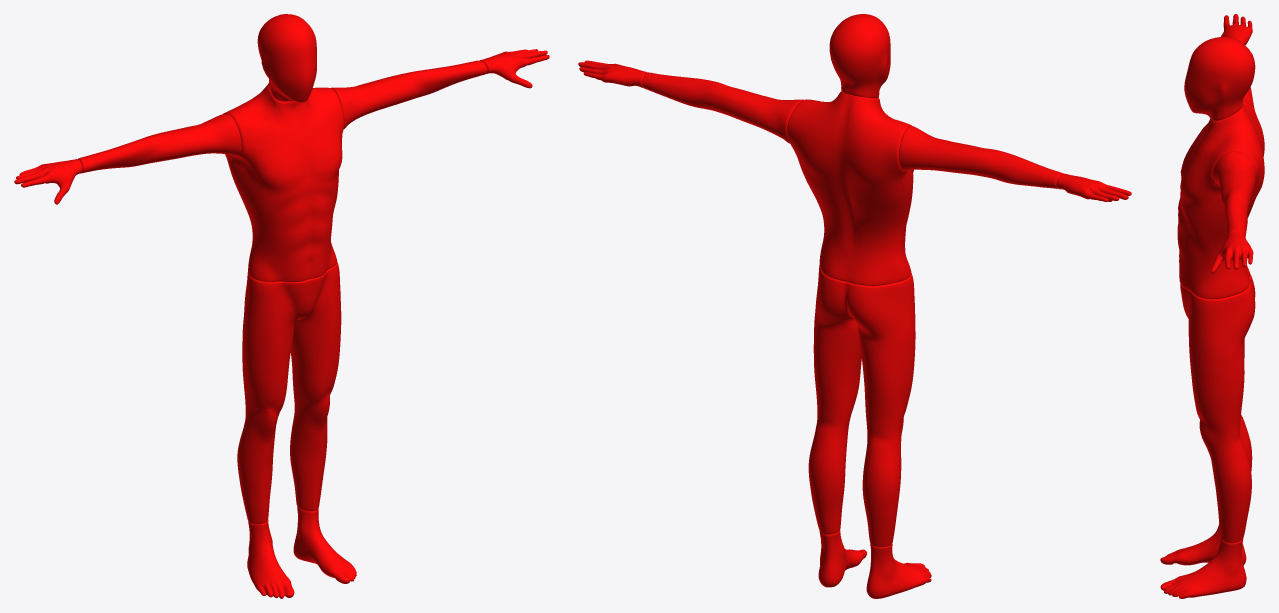
The model's file is dummyRig.obj.
The picture shows the model from 3 angles, left to right: view 1: azimuth 30°, elevation 25°; view 2: azimuth 150°, elevation 25°; view 3: azimuth 270°, elevation 25°; orthographic projection. The views are drawn at different scales.
Parts seen in each view (by area): view 1: dummy; view 2: dummy; view 3: dummy.
Boxes of the visible parts, left/top/right/bottom form: dummy: left=14, top=14, right=549, bottom=598; dummy: left=578, top=14, right=1131, bottom=598; dummy: left=1160, top=14, right=1264, bottom=598.
Size of the model in its own units: 11.27 by 11.13 by 1.96.
